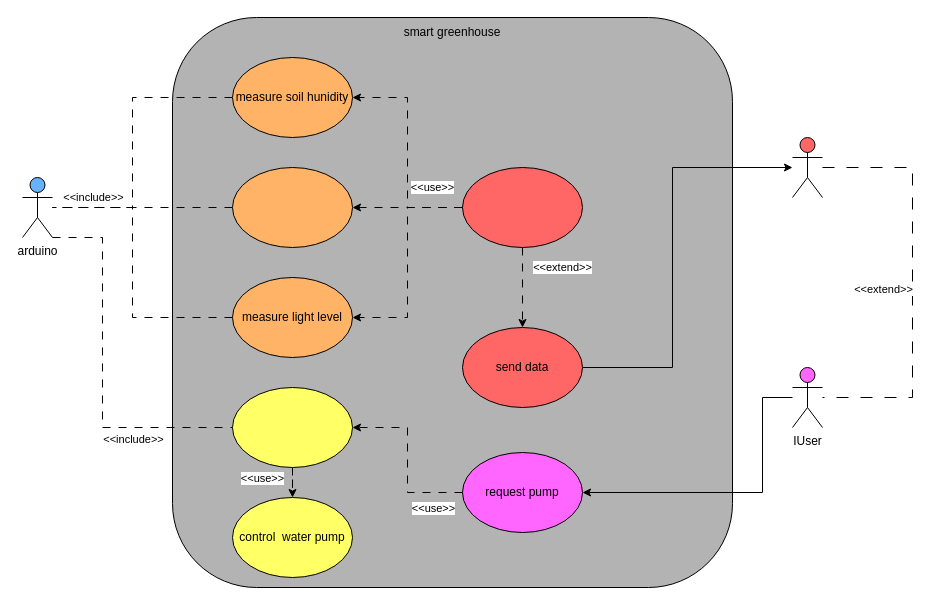
The diagram is 931 pixels wide and 605 high, and some of its shapes have lost their labels. The centre of each missing label's shape, as x and y in pixels:
Broker (Rasberry Pi): [807,167]
control relay: [292,427]
measure temperature /humidity: [292,207]
request data: [522,207]
